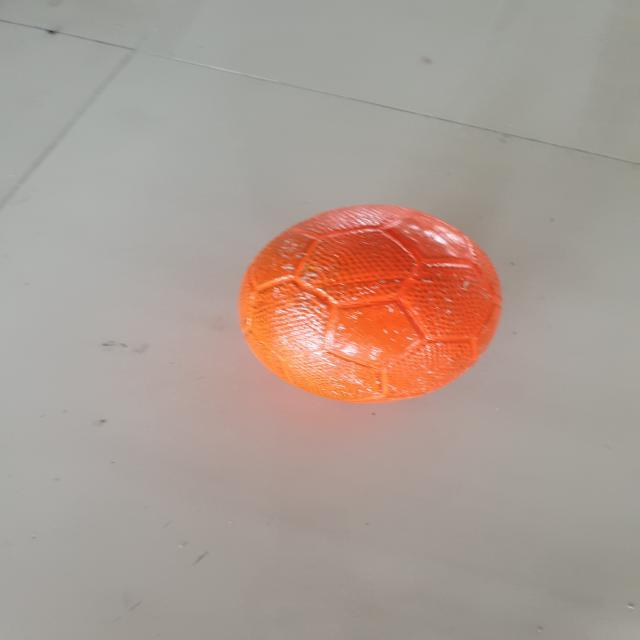bola: (222, 191, 516, 410)
